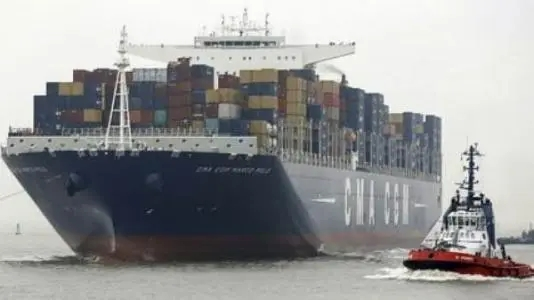Cargoship: (3, 8, 447, 259)
otherboat: (403, 144, 534, 277)
